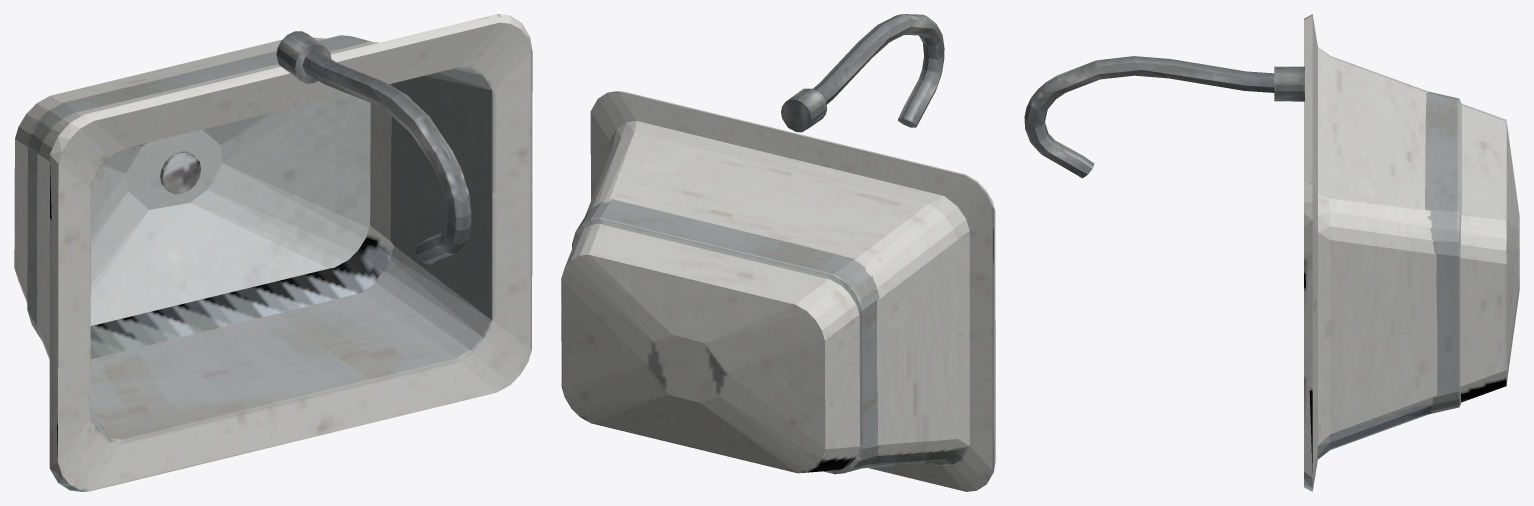
Rendered from pz_sink_inset_industrial.obj.
3 views of the same model, side by side, from view 1: azimuth 30°, elevation 25°; view 2: azimuth 150°, elevation 25°; view 3: azimuth 270°, elevation 25° (orthographic). The views are drawn at different scales.
Visible parts, largest first — view 1: pz_sink_inset_industrial_|_open_bowl_and_overhanging_rim, pz_sink_inset_industrial_|_EDITABLE_arched_faucet, pz_sink_inset_industrial_|_faucet_socket, pz_sink_inset_industrial_|_drain_disc; view 2: pz_sink_inset_industrial_|_open_bowl_and_overhanging_rim, pz_sink_inset_industrial_|_EDITABLE_arched_faucet, pz_sink_inset_industrial_|_faucet_socket; view 3: pz_sink_inset_industrial_|_open_bowl_and_overhanging_rim, pz_sink_inset_industrial_|_EDITABLE_arched_faucet, pz_sink_inset_industrial_|_faucet_socket.
Part boxes in pixels (x1,y1,x2,y2): pz_sink_inset_industrial_|_open_bowl_and_overhanging_rim: (14,14,532,491); pz_sink_inset_industrial_|_EDITABLE_arched_faucet: (302,51,471,264); pz_sink_inset_industrial_|_faucet_socket: (276,31,331,83); pz_sink_inset_industrial_|_drain_disc: (160,151,201,194); pz_sink_inset_industrial_|_open_bowl_and_overhanging_rim: (561,91,995,491); pz_sink_inset_industrial_|_EDITABLE_arched_faucet: (813,14,944,127); pz_sink_inset_industrial_|_faucet_socket: (781,88,827,132); pz_sink_inset_industrial_|_open_bowl_and_overhanging_rim: (1304,14,1519,491); pz_sink_inset_industrial_|_EDITABLE_arched_faucet: (1024,56,1274,178); pz_sink_inset_industrial_|_faucet_socket: (1274,66,1304,101).
Size of the model in its own units: 0.5241 by 0.4461 by 0.5696.
Materials: 1 (1 with a texture image).
